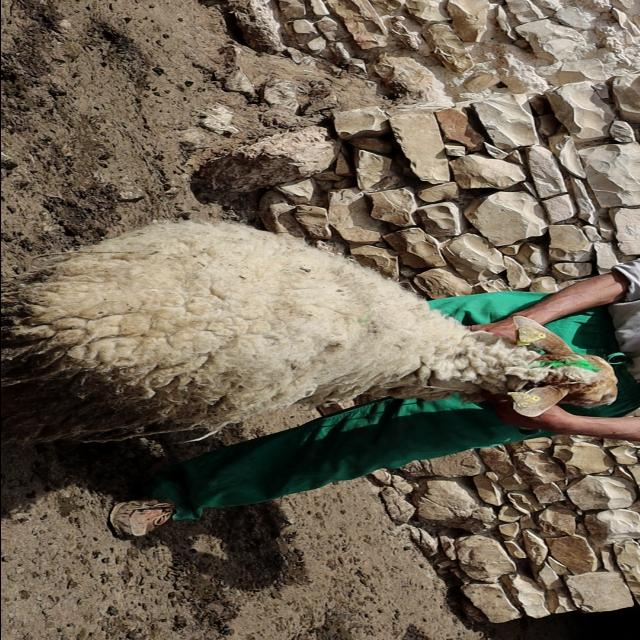Score_2: (1, 221, 616, 442)
